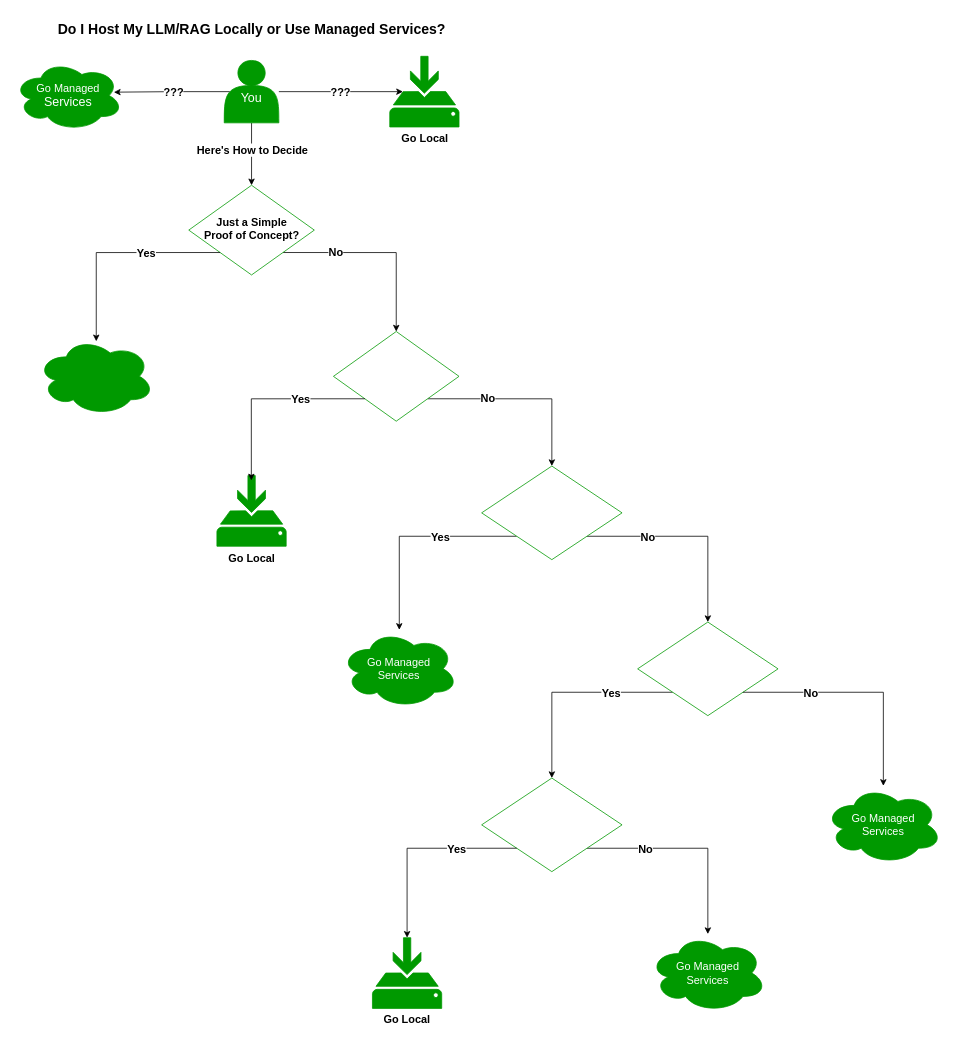
The diagram is 955 pixels wide and 1041 high, and some of its shapes have lost their labels. The shapes that lost their labels are listed below. From the top down, each one's centre as x and y in pixels, then its label:
(x=95, y=376): Go Managed Services (for now)
(x=396, y=376): Is Your Data Sensitive?
(x=551, y=512): Do You Need the Latest and Greatest Technology? (test this!)
(x=707, y=668): Are you Scaling Your App to >1000 Users?
(x=551, y=824): Do You Have the Knowledge to Host Everything Locally?
